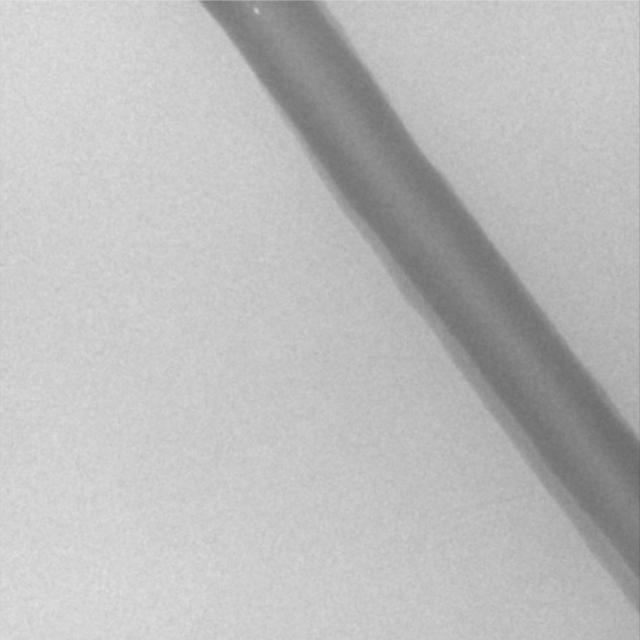air hole: (252, 5, 260, 16)
